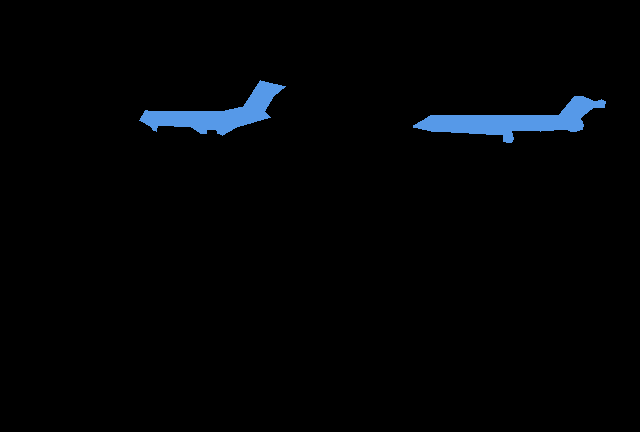Airplane: (413, 96, 606, 143), (139, 80, 285, 135)
